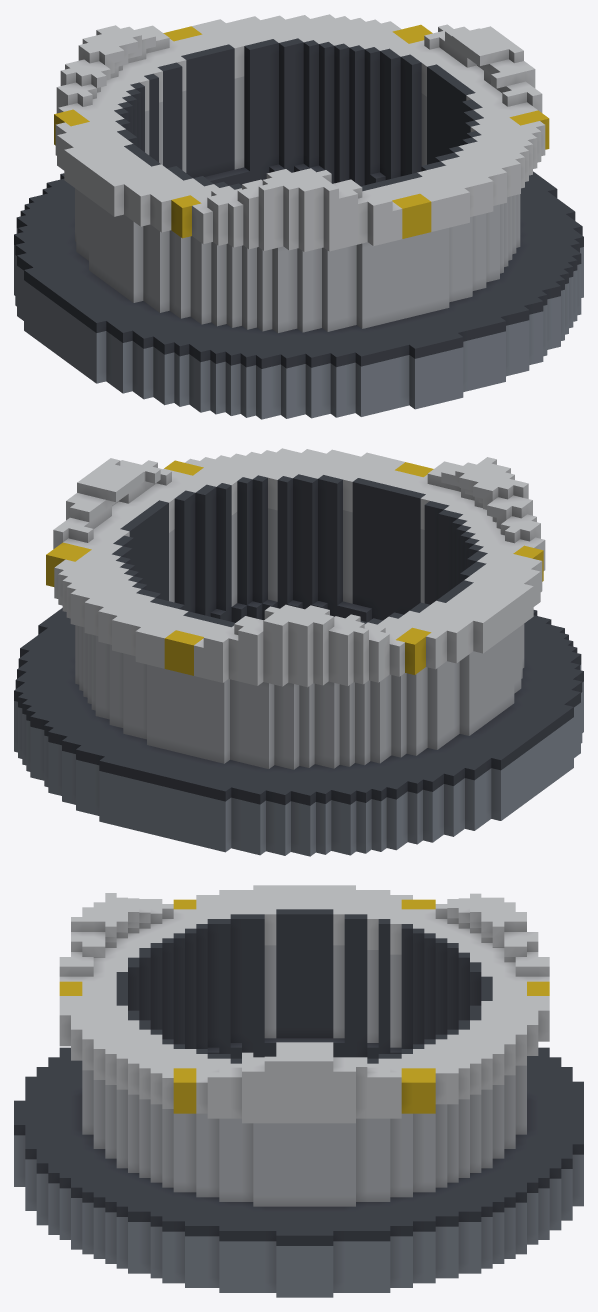
Rendered from docking_port_s.glb.
3 views of the same model, one above another, from view 1: azimuth 30°, elevation 25°; view 2: azimuth 150°, elevation 25°; view 3: azimuth 270°, elevation 25° (orthographic). The views are drawn at different scales.
Visible parts, largest first — view 1: docking_port_s; view 2: docking_port_s; view 3: docking_port_s.
Boxes of the visible parts, x1,y1,x2,y2 form: docking_port_s: [14, 14, 583, 419]; docking_port_s: [14, 448, 583, 856]; docking_port_s: [14, 885, 583, 1297].
Size of the model in its own units: 1.25 by 0.525 by 1.25.
